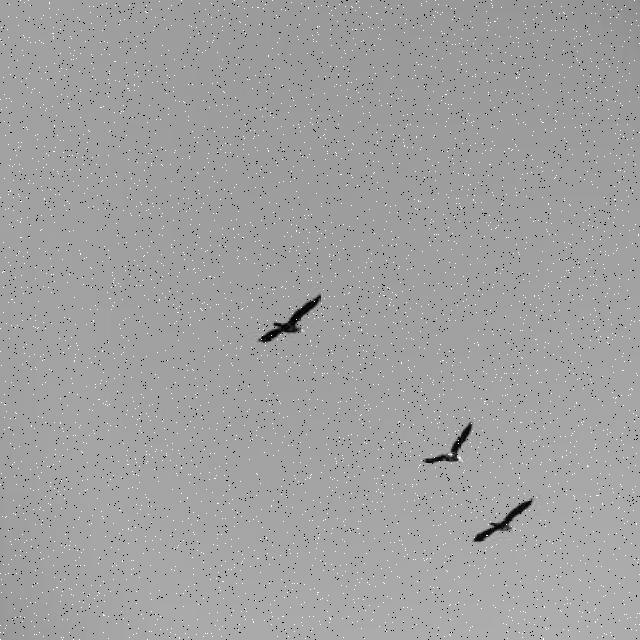bird: (256, 293, 321, 344), (472, 498, 534, 542), (422, 422, 472, 464)
